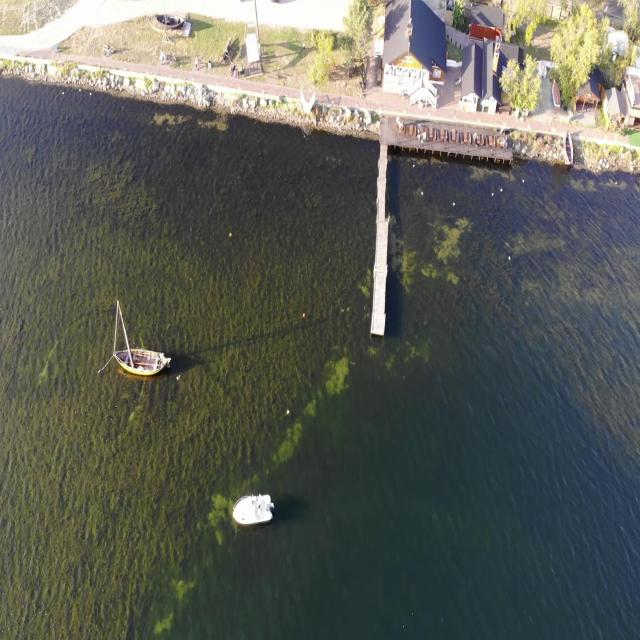boat: (232, 489, 276, 531)
bouy: (302, 310, 306, 320), (286, 409, 290, 417), (228, 233, 232, 238)
sailboat: (114, 310, 170, 388)
